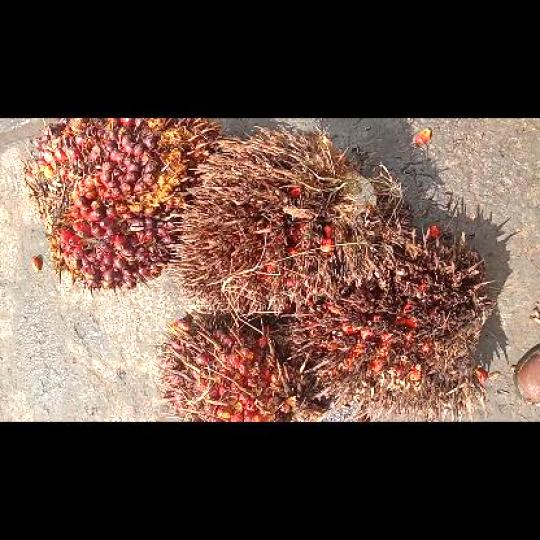masak: (17, 118, 219, 297), (149, 307, 326, 420)
terlalu masak: (161, 125, 400, 314), (270, 226, 496, 420)
